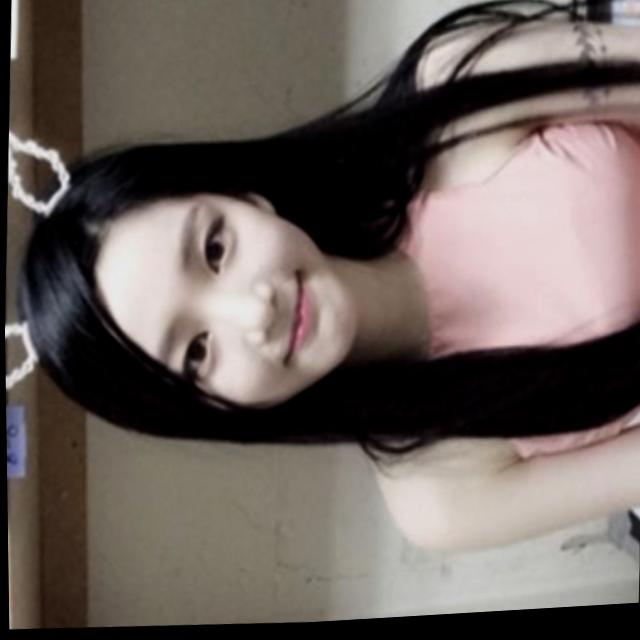face: (86, 182, 363, 430)
